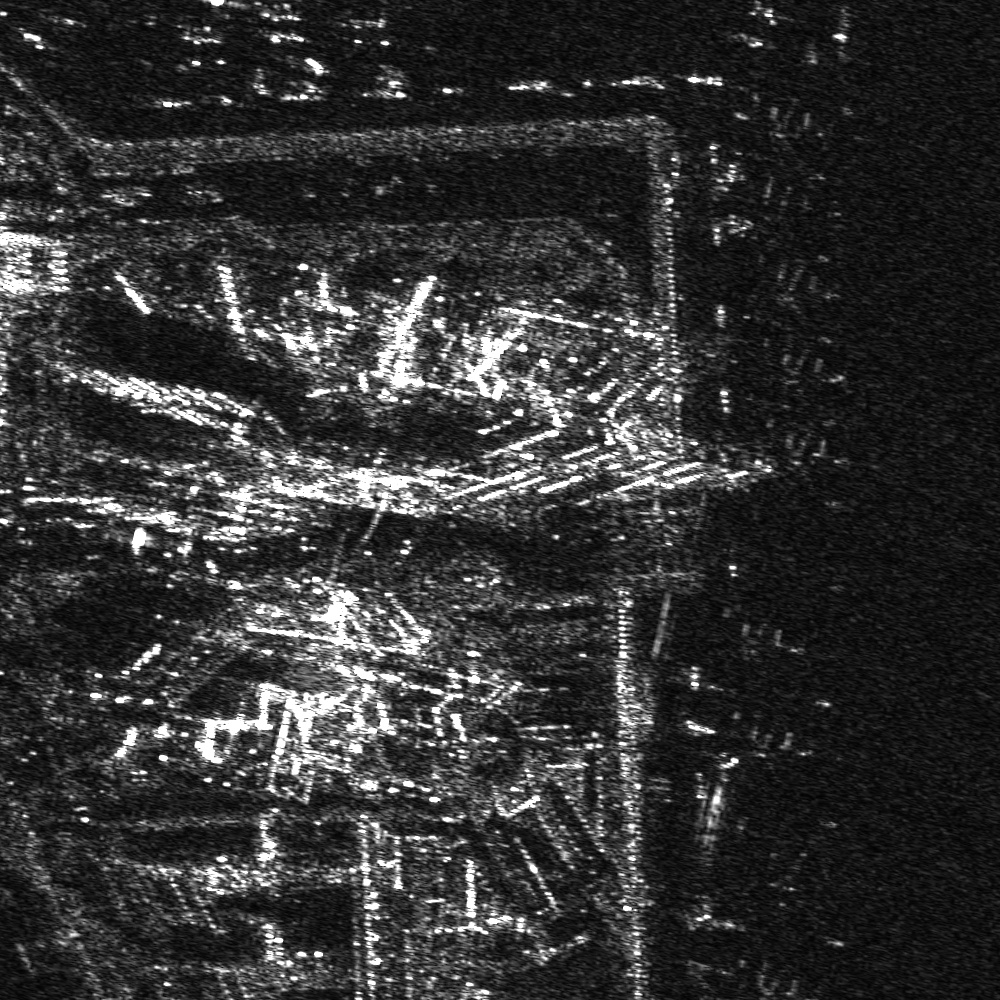A220: (748, 262, 849, 335), (762, 90, 844, 179), (786, 436, 883, 509), (775, 348, 858, 426), (721, 723, 819, 788)
